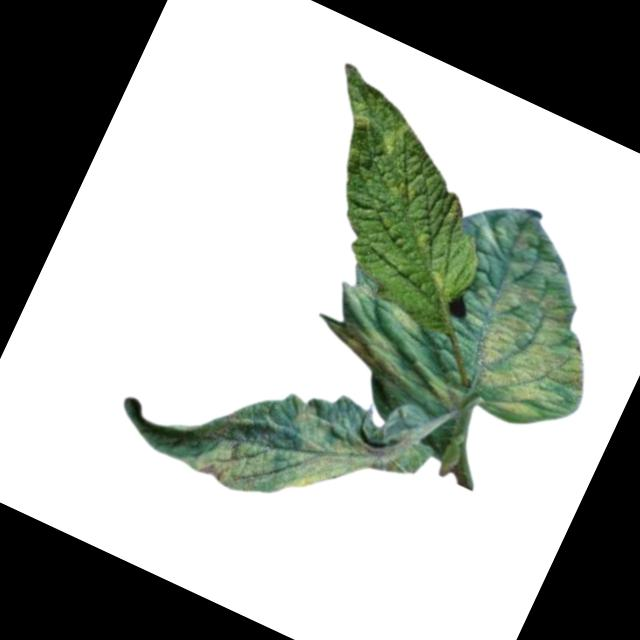Leaf_Mold: (180, 352, 426, 555), (453, 218, 640, 447), (312, 275, 438, 388), (338, 90, 421, 160)
